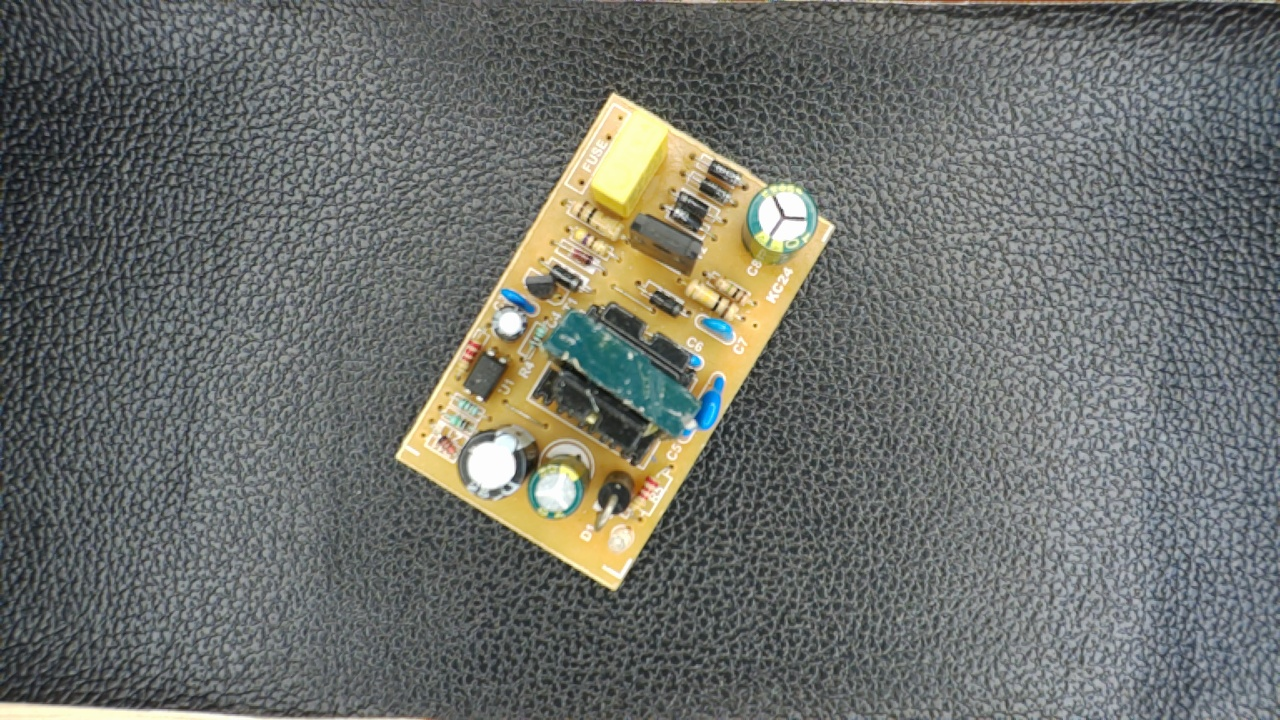hv_capacitor: (741, 185, 821, 266)
mov: (692, 369, 728, 437)
optocoupler: (461, 345, 507, 402)
